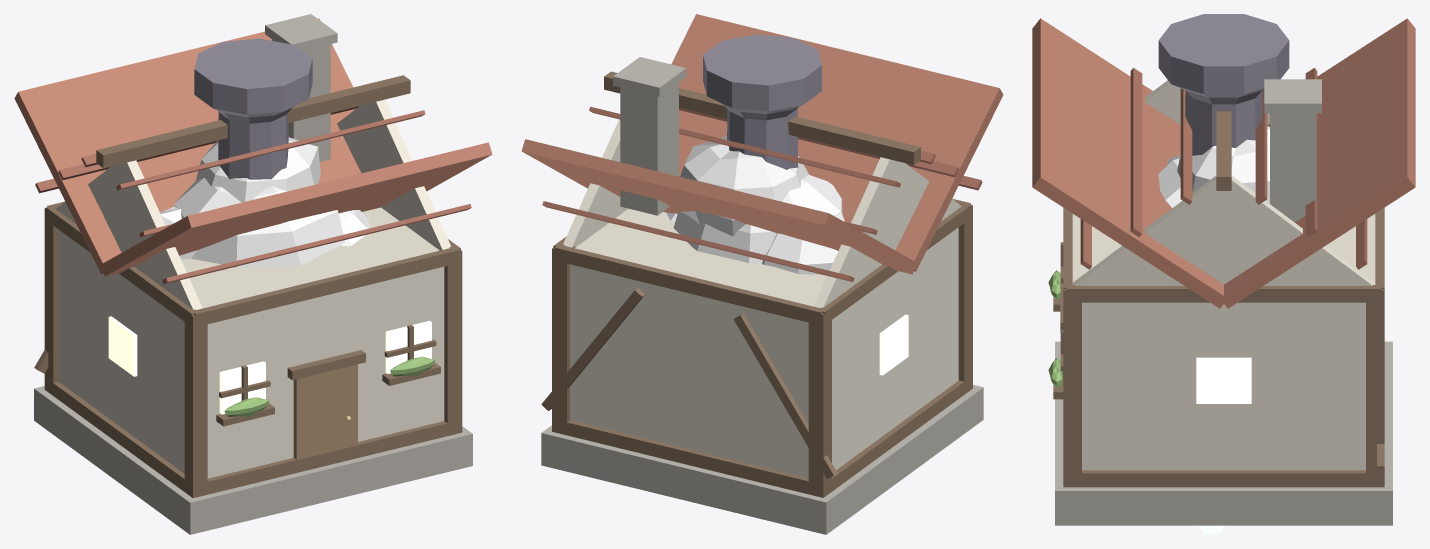
The model's file is world.glb.
3 renders of one model, left to right at view 1: azimuth 30°, elevation 25°; view 2: azimuth 150°, elevation 25°; view 3: azimuth 270°, elevation 25°, orthographic. The views are drawn at different scales.
Visible parts, largest first — view 1: P_house, P_pillar, P_oak; view 2: P_house, P_pillar, P_oak; view 3: P_house, P_pillar, P_oak.
Part boxes in pixels (x1=…): P_house: x1=14, y1=14, x2=492, y2=534; P_pillar: x1=194, y1=38, x2=312, y2=179; P_oak: x1=160, y1=137, x2=370, y2=267; P_house: x1=521, y1=14, x2=1003, y2=534; P_pillar: x1=703, y1=34, x2=821, y2=169; P_oak: x1=666, y1=136, x2=844, y2=274; P_house: x1=1032, y1=18, x2=1415, y2=525; P_pillar: x1=1158, y1=14, x2=1289, y2=155; P_oak: x1=1158, y1=126, x2=1269, y2=207.
Size of the model in its own units: 5 by 6.9 by 4.99.
